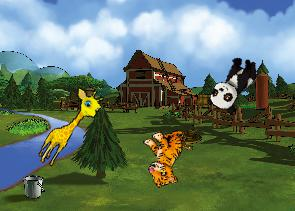giraffe: (34, 82, 107, 174)
panda: (204, 50, 262, 117)
tiger: (137, 124, 196, 189)
